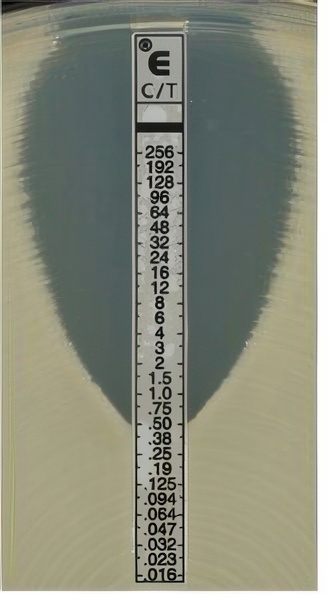line: (132, 32, 187, 584)
zone: (22, 20, 296, 425)
